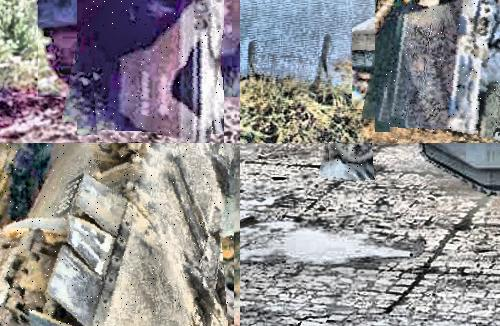tanks: (1, 144, 232, 326), (87, 1, 224, 144), (386, 1, 500, 143), (328, 144, 368, 182)
